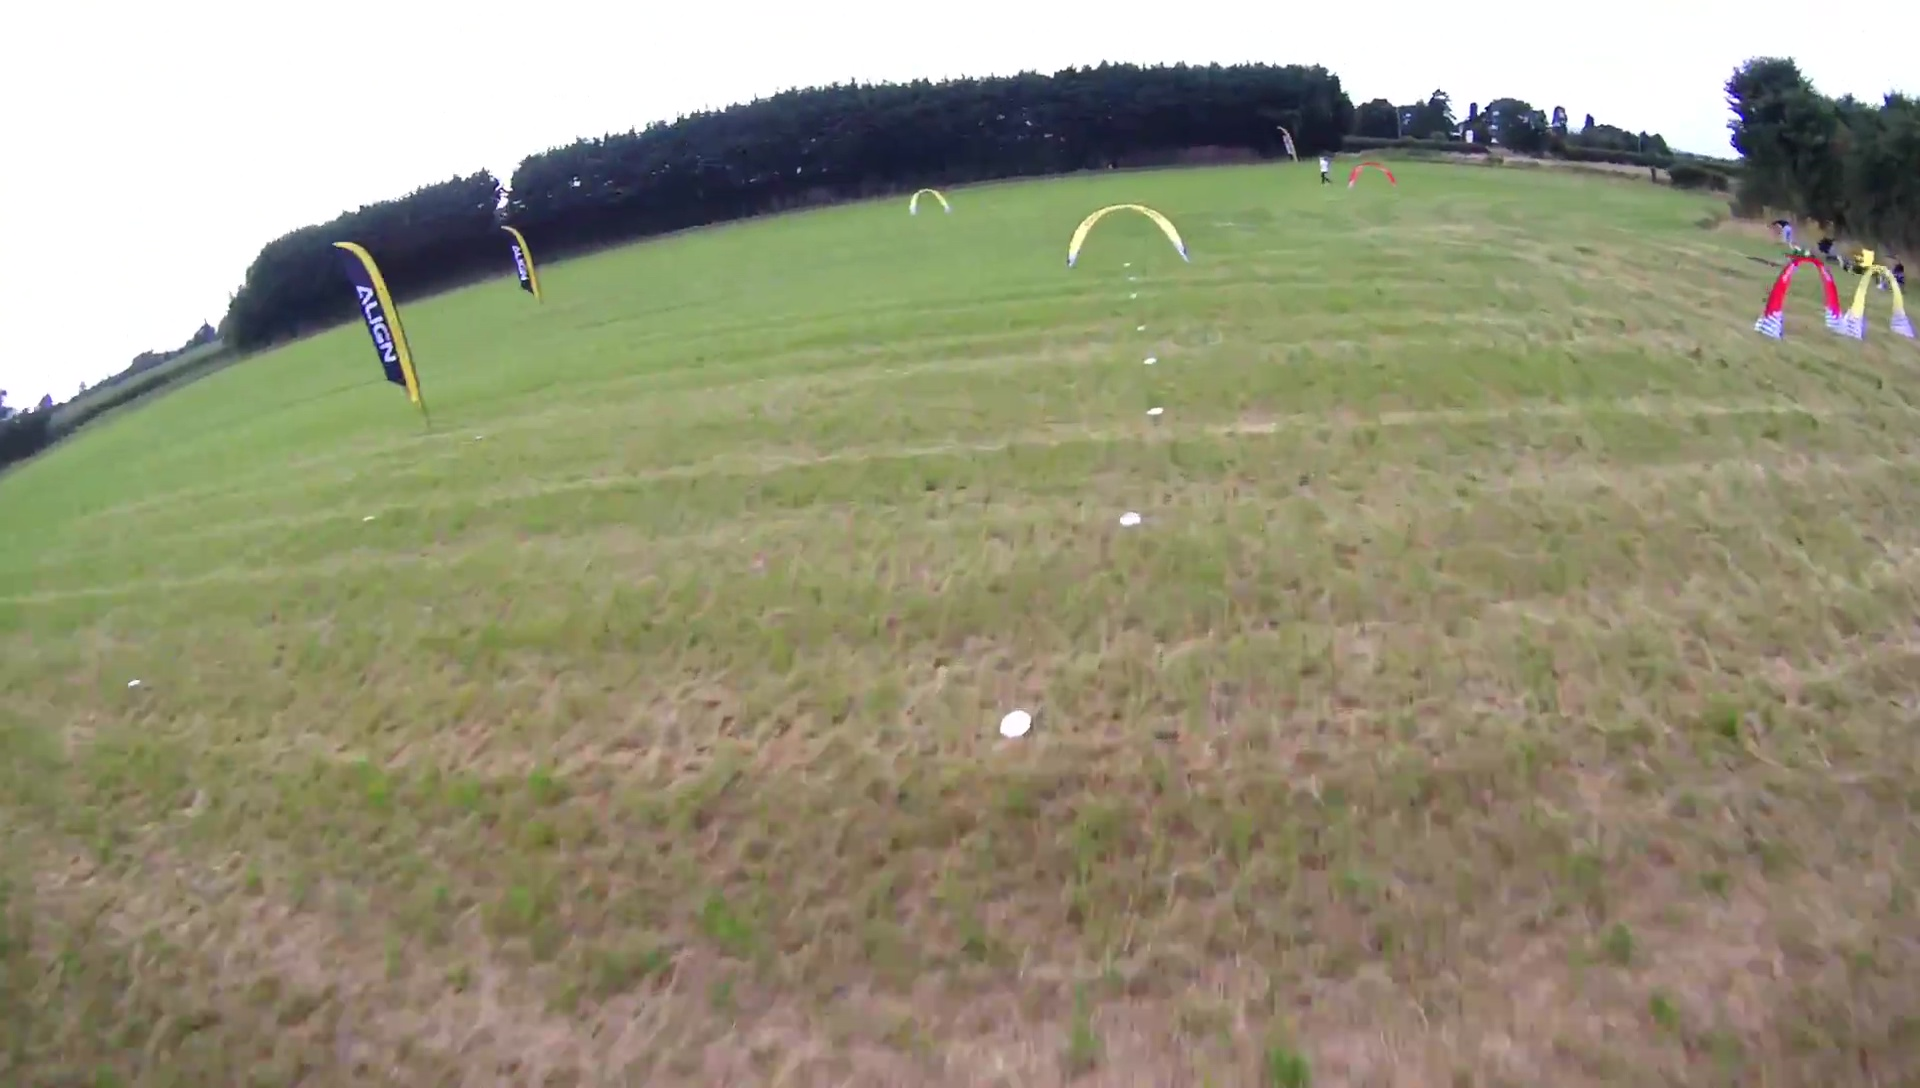gate: (1065, 200, 1189, 269), (1754, 256, 1844, 338), (1844, 262, 1920, 342), (1344, 160, 1400, 190), (909, 186, 953, 215)
